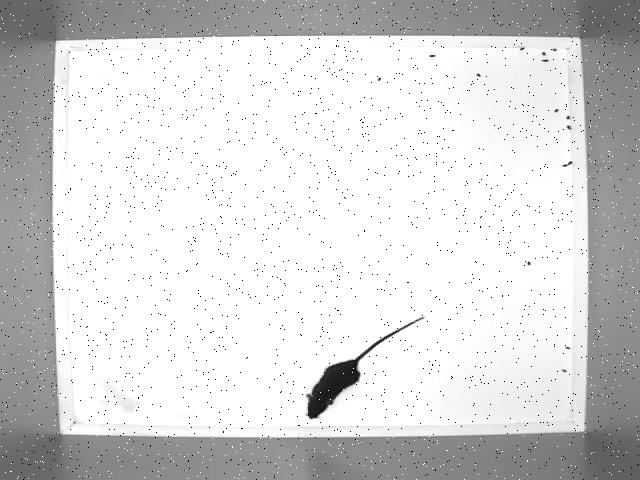Tikus: (306, 317, 426, 419)
